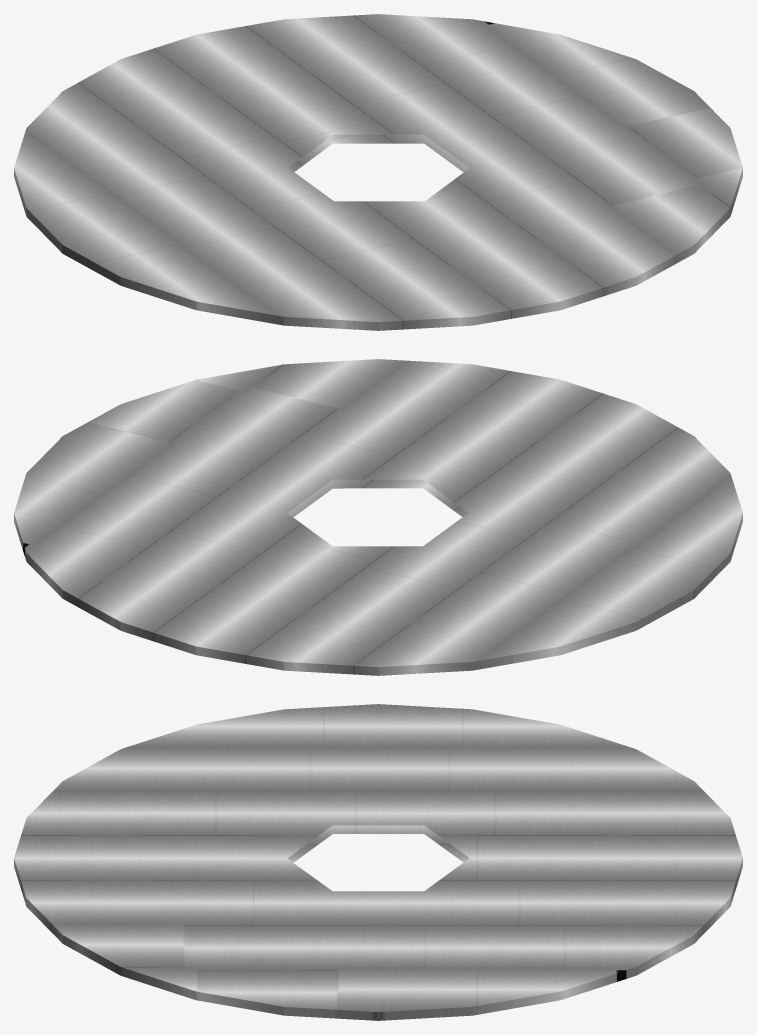
The model's file is DiscObject1.fbx.
3 views of the same model, one above another, from view 1: azimuth 30°, elevation 25°; view 2: azimuth 150°, elevation 25°; view 3: azimuth 270°, elevation 25° (orthographic).
Visible parts, largest first — view 1: pDisc3; view 2: pDisc3; view 3: pDisc3.
Boxes of the visible parts, <box> form: pDisc3: <box>14,14,742,330</box>; pDisc3: <box>14,359,742,675</box>; pDisc3: <box>14,704,742,1020</box>.
Size of the model in its own units: 2 by 0.0265 by 2.
1 material, 1 textured.
